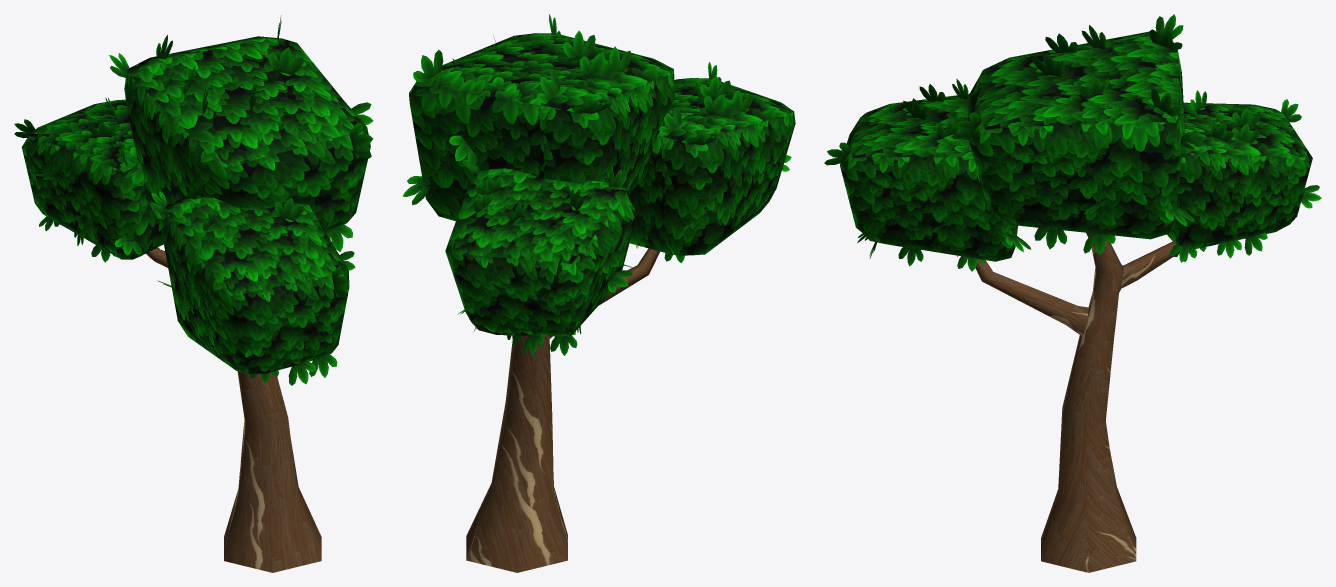
File: stylized_tree2.glb
3 renders of one model, left to right at view 1: azimuth 30°, elevation 25°; view 2: azimuth 150°, elevation 25°; view 3: azimuth 270°, elevation 25°, orthographic. The views are drawn at different scales.
Visible parts, largest first — view 1: polySurface1, polySurface36, polySurface39, polySurface2, polySurface22, polySurface3; view 2: polySurface1, polySurface39, polySurface36, polySurface2, polySurface24, polySurface62, polySurface64, polySurface17; view 3: polySurface1, polySurface2, polySurface36, polySurface39.
Boxes of the visible parts, <box> form: polySurface1: <box>124,36,370,232</box>; polySurface36: <box>162,196,349,373</box>; polySurface39: <box>21,99,163,259</box>; polySurface2: <box>146,247,321,572</box>; polySurface22: <box>268,47,303,74</box>; polySurface3: <box>349,122,373,158</box>; polySurface1: <box>409,33,675,221</box>; polySurface39: <box>445,168,637,336</box>; polySurface36: <box>628,78,795,255</box>; polySurface2: <box>466,248,659,572</box>; polySurface24: <box>579,52,617,79</box>; polySurface62: <box>563,30,595,60</box>; polySurface64: <box>413,50,443,82</box>; polySurface17: <box>449,135,476,169</box>; polySurface1: <box>967,31,1184,239</box>; polySurface2: <box>975,232,1176,572</box>; polySurface36: <box>840,93,1017,261</box>; polySurface39: <box>1167,102,1312,248</box>.
Size of the model in its own units: 3.69 by 7.09 by 6.55.
Materials: 1 (1 with a texture image).
